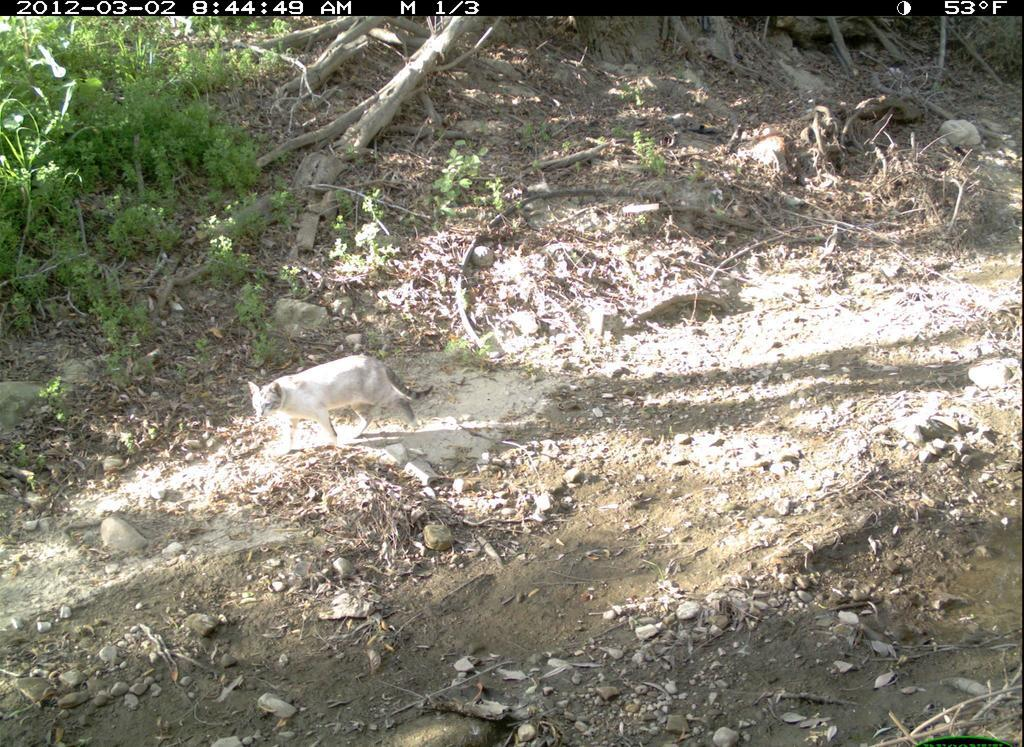cat: (244, 346, 438, 468)
